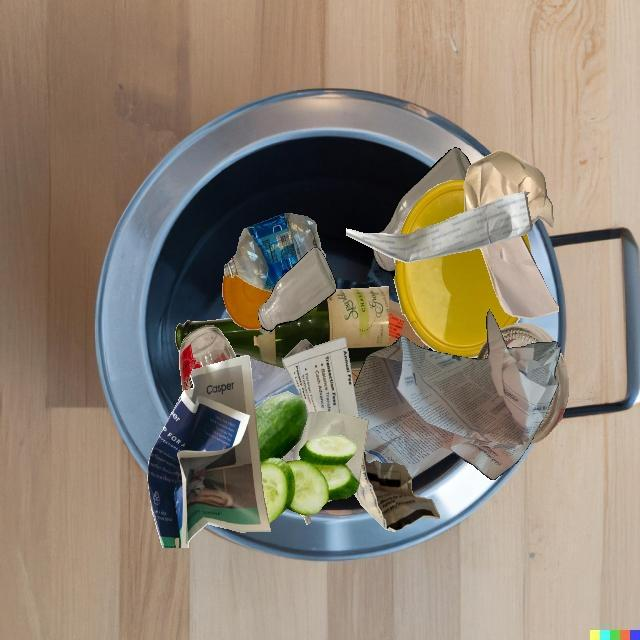biowaste: (255, 391, 360, 524)
cardboard: (389, 299, 429, 350)
glass: (175, 287, 389, 371), (379, 147, 471, 234), (258, 247, 336, 331), (529, 350, 569, 445), (180, 325, 236, 392), (500, 323, 556, 345)
paper: (354, 310, 560, 480), (148, 355, 270, 548), (346, 191, 532, 263), (464, 150, 554, 228), (354, 451, 439, 531), (480, 235, 558, 319), (282, 337, 359, 418), (311, 435, 358, 514), (334, 412, 368, 482), (292, 411, 334, 461)
plastic: (224, 213, 326, 292), (461, 181, 527, 289), (393, 252, 461, 356), (456, 289, 520, 357), (400, 180, 465, 235), (222, 271, 272, 330)
